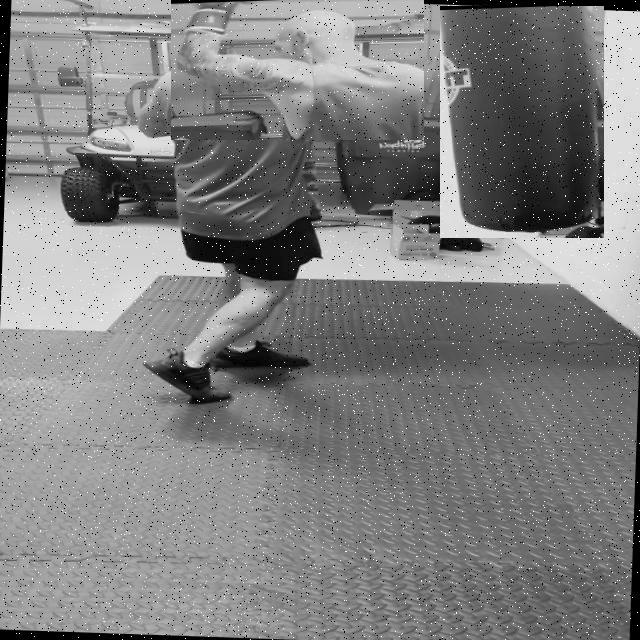punch: (171, 0, 424, 140)
